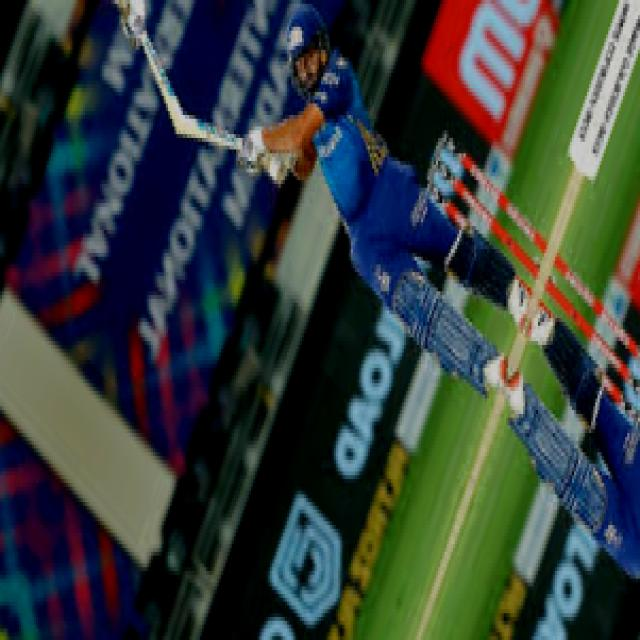toe: (176, 115, 198, 135)
